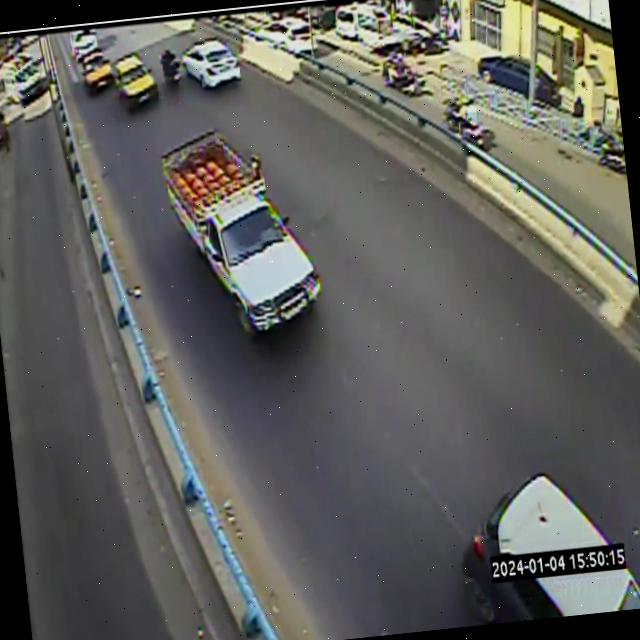car: (161, 130, 320, 333), (461, 472, 640, 624), (181, 39, 240, 88), (112, 53, 157, 110), (80, 48, 111, 92)
